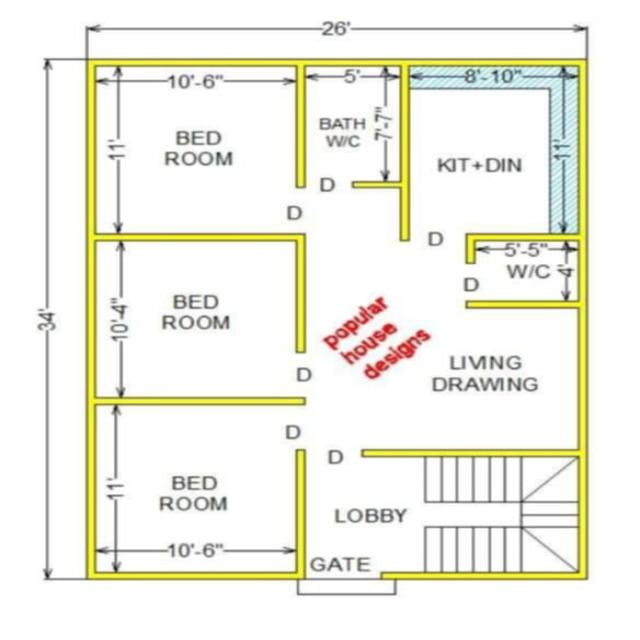column: (567, 442, 597, 466), (77, 389, 104, 411), (288, 564, 314, 585), (571, 53, 598, 73), (79, 228, 106, 248), (78, 52, 102, 74), (570, 566, 594, 587), (78, 567, 104, 586), (571, 228, 594, 247)
